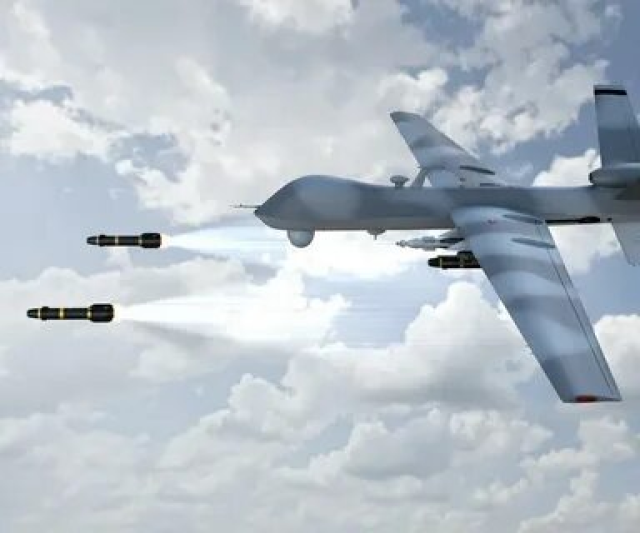military drone: (227, 84, 640, 403)
